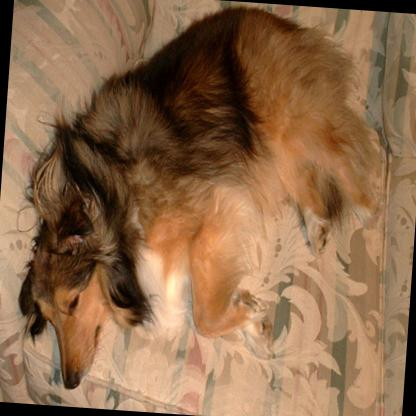Shetland_sheepdog: (9, 0, 395, 411)
